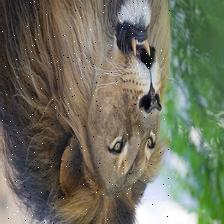Lion: (0, 0, 169, 224)
